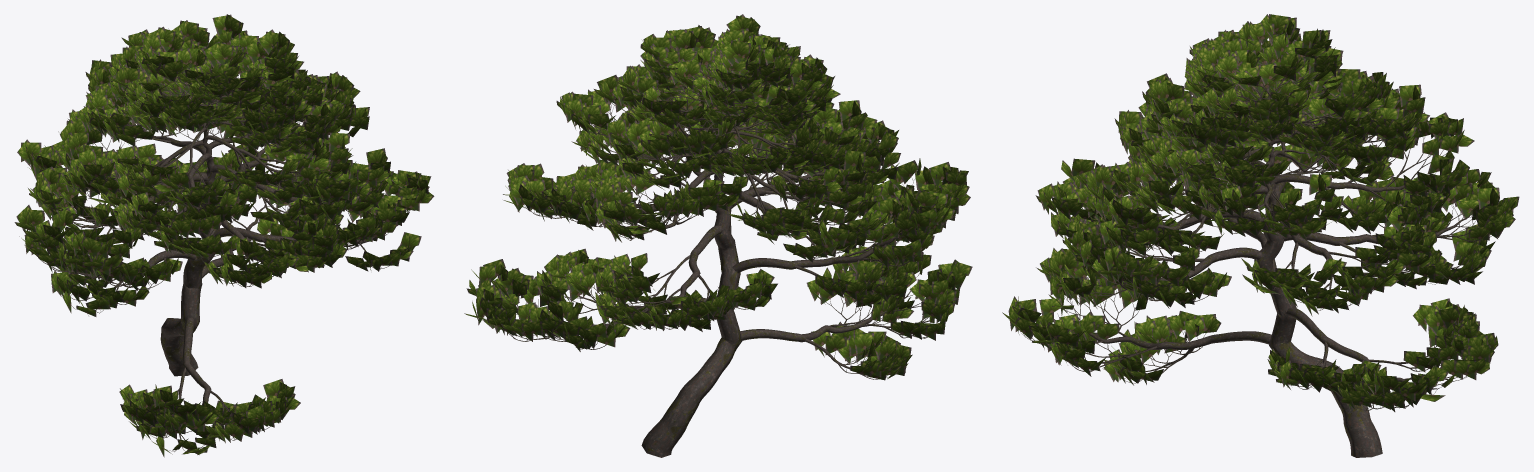
The model's file is KB3D_SHA_MatsuPine_C_grp.fbx.
3 renders of one model, left to right at view 1: azimuth 30°, elevation 25°; view 2: azimuth 150°, elevation 25°; view 3: azimuth 270°, elevation 25°, orthographic. The views are drawn at different scales.
Parts seen in each view (by area): view 1: KB3D_SHA_MatsuPine_C_Main; view 2: KB3D_SHA_MatsuPine_C_Main; view 3: KB3D_SHA_MatsuPine_C_Main.
Boxes of the visible parts, x1,y1,x2,y2 form: KB3D_SHA_MatsuPine_C_Main: [14, 14, 434, 457]; KB3D_SHA_MatsuPine_C_Main: [464, 14, 972, 457]; KB3D_SHA_MatsuPine_C_Main: [1002, 14, 1519, 457].
Size of the model in its own units: 833 by 754 by 881.
